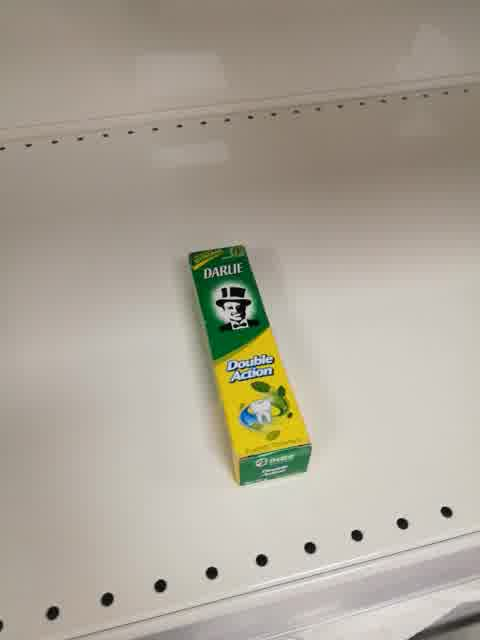toothpaste: (187, 246, 314, 486)
